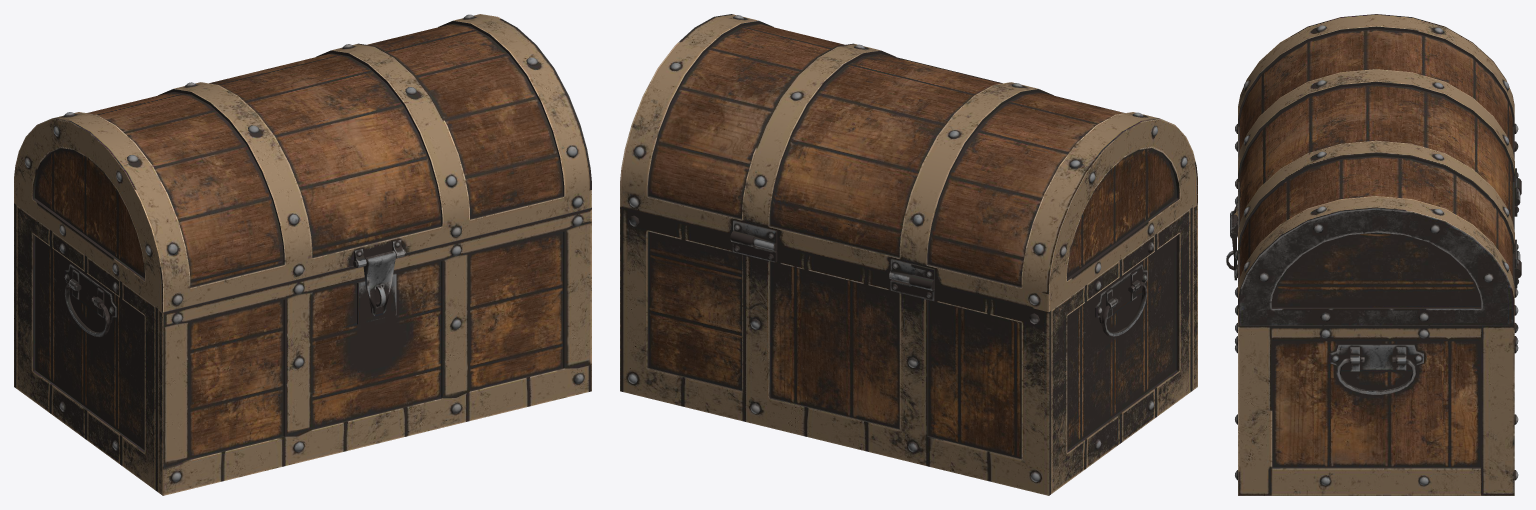
File: Chest.glb
3 renders of one model, left to right at view 1: azimuth 30°, elevation 25°; view 2: azimuth 150°, elevation 25°; view 3: azimuth 270°, elevation 25°, orthographic. The views are drawn at different scales.
Parts seen in each view (by area): view 1: Chest; view 2: Chest; view 3: Chest.
Part boxes in pixels (x1,y1,x2,y2): Chest: [14, 14, 591, 495]; Chest: [620, 14, 1197, 495]; Chest: [1226, 14, 1521, 495].
Bounding box in the file's own units: 0.4888 × 0.3306 × 0.3077.
Materials: 1 (1 with a texture image).
